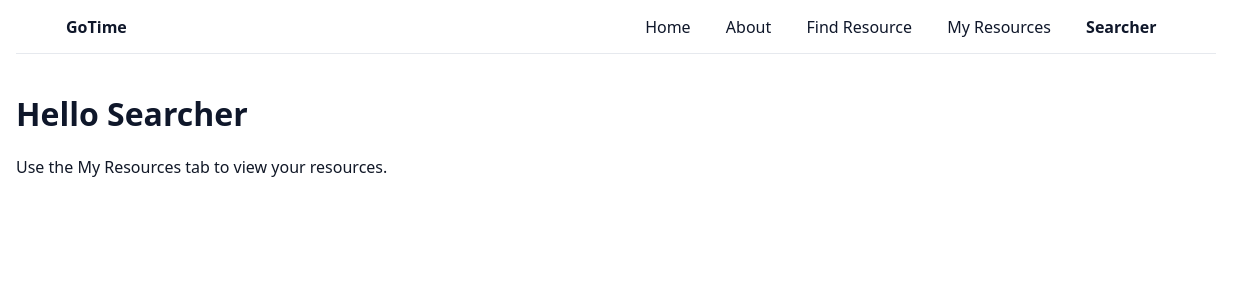
Find Resources tab › shows prompt and requires 3 chars, searches public resources and marks mine
Click the link "Find Resource". click: (859, 27)
box: top-left (806, 16), bottom-right (912, 38)
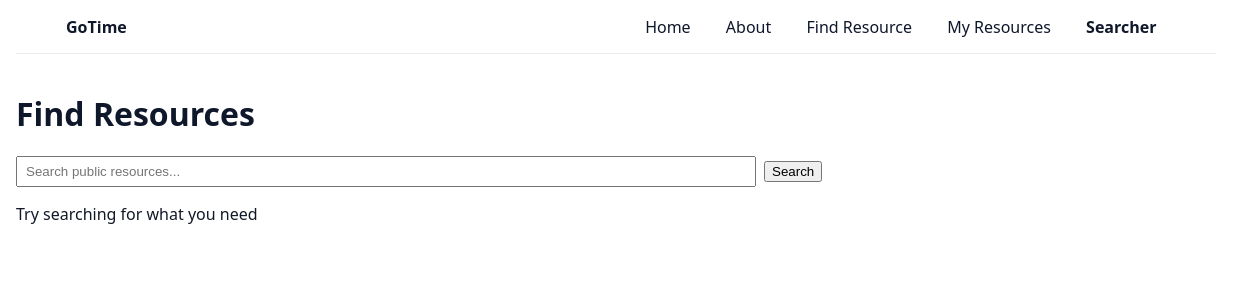
expect the text "Try searching for what you need" is shown: met, box top-left (16, 203), bottom-right (258, 225)
Type "ab" into the field with placeholder "Search public resources...". click: (386, 172)
box: top-left (16, 156), bottom-right (756, 187)
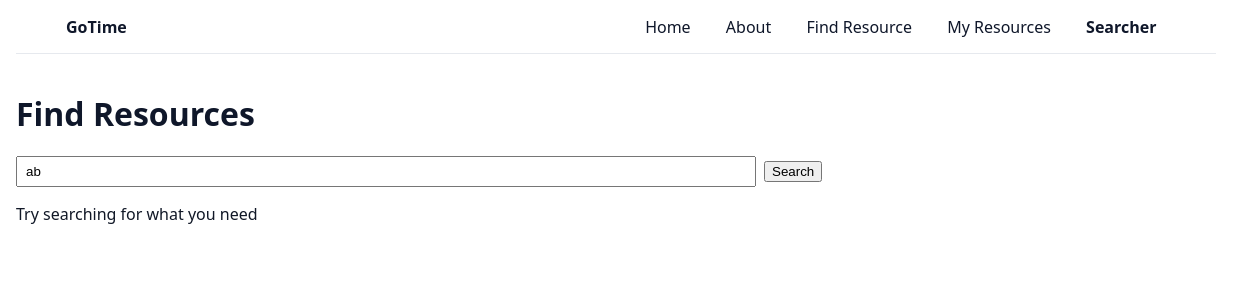
Click the button "Search". click: (793, 172)
box: top-left (764, 161), bottom-right (822, 182)
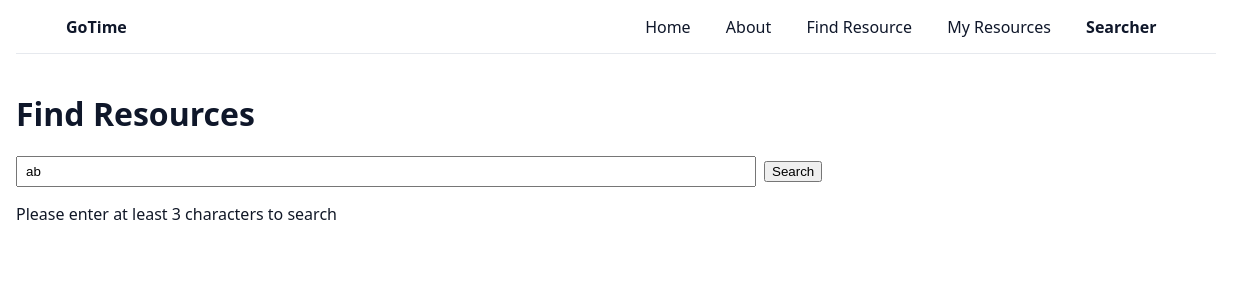
expect the text "Please enter at least 3 characters to search" is shown: met, box top-left (16, 203), bottom-right (337, 225)
Replace the text in the field with placeholder "Search public resources..." with "pub". click: (386, 172)
box: top-left (16, 156), bottom-right (756, 187)
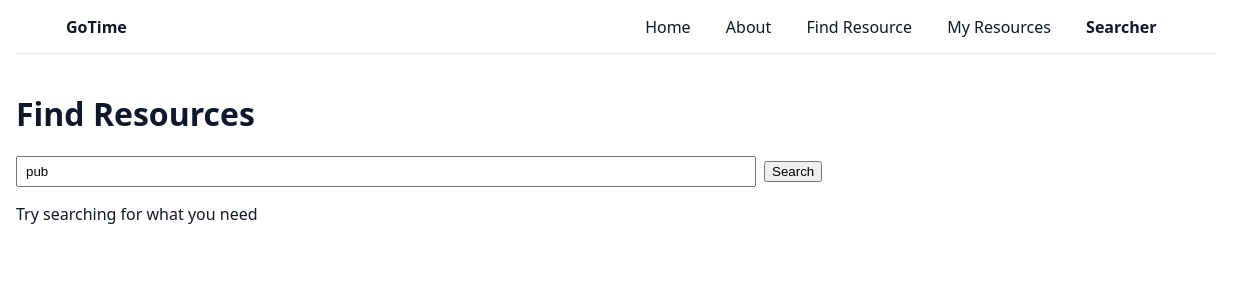
Click the button "Search". click: (793, 172)
box: top-left (764, 161), bottom-right (822, 182)
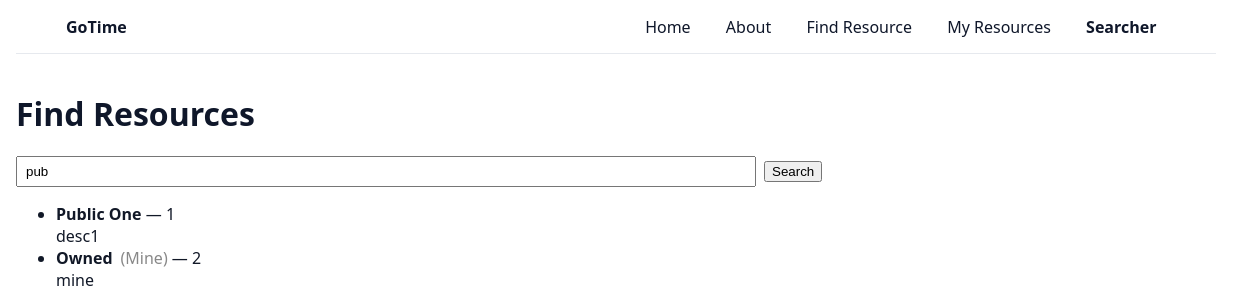
expect the text "Public One" is shown: met, box top-left (56, 203), bottom-right (142, 225)
expect the text "Owned" is shown: met, box top-left (56, 247), bottom-right (112, 269)
expect the list item "Owned(Mine) — 2 mine" is shown: met, box top-left (120, 247), bottom-right (168, 269)
